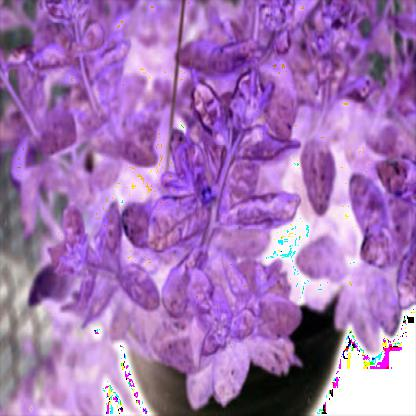Tomato leaf mosaic virus: (141, 186, 214, 253), (226, 192, 305, 233), (110, 259, 162, 317), (359, 229, 407, 270), (228, 312, 267, 341)
